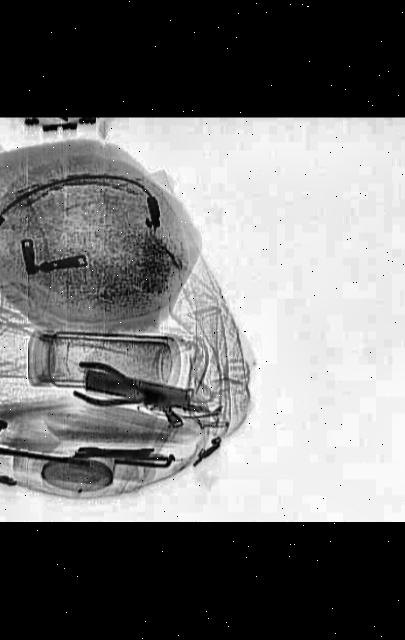Pliers: (65, 357, 176, 418)
